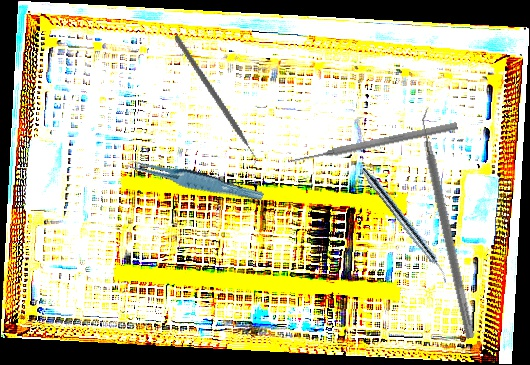Chopper: (137, 33, 291, 173)
Handpiece: (357, 165, 454, 285)
Pusher: (286, 120, 459, 167)
Spatula Surgical: (412, 104, 486, 340)
Tissue Forceps: (123, 147, 265, 212)
